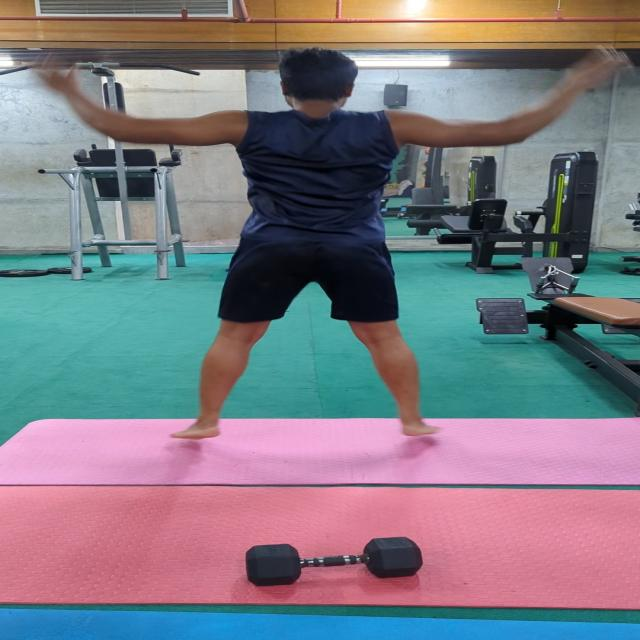Normal_JumpingJacks: (28, 40, 602, 458)
